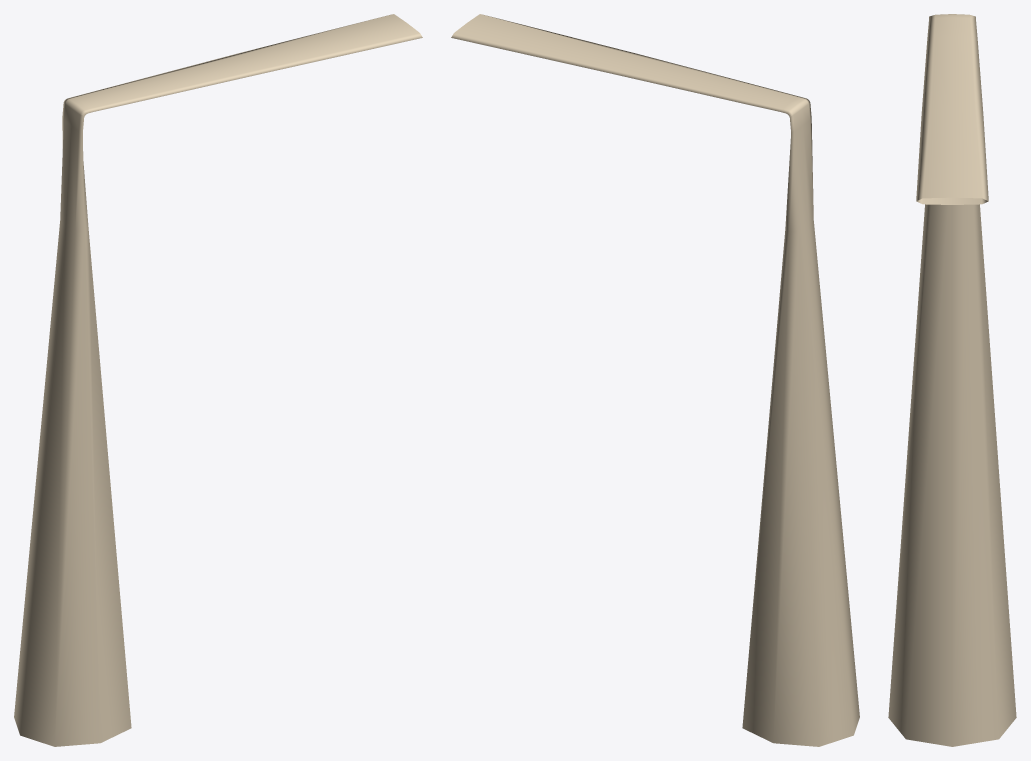
File: Level1-4_1_2.fbx
The picture shows the model from 3 angles, left to right: view 1: azimuth 30°, elevation 25°; view 2: azimuth 150°, elevation 25°; view 3: azimuth 270°, elevation 25°; orthographic projection. The views are drawn at different scales.
Parts seen in each view (by area): view 1: Level1-0.006; view 2: Level1-0.006; view 3: Level1-0.006.
Part boxes in pixels (box(x1,y1,x2,y2)): Level1-0.006: box(14, 14, 422, 746); Level1-0.006: box(451, 14, 859, 746); Level1-0.006: box(888, 14, 1016, 746).
Bounding box in the file's own units: 426 × 650 × 107.
